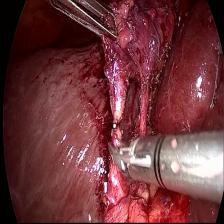Clipper: (109, 128, 166, 188)
Grasper: (52, 0, 121, 49)
